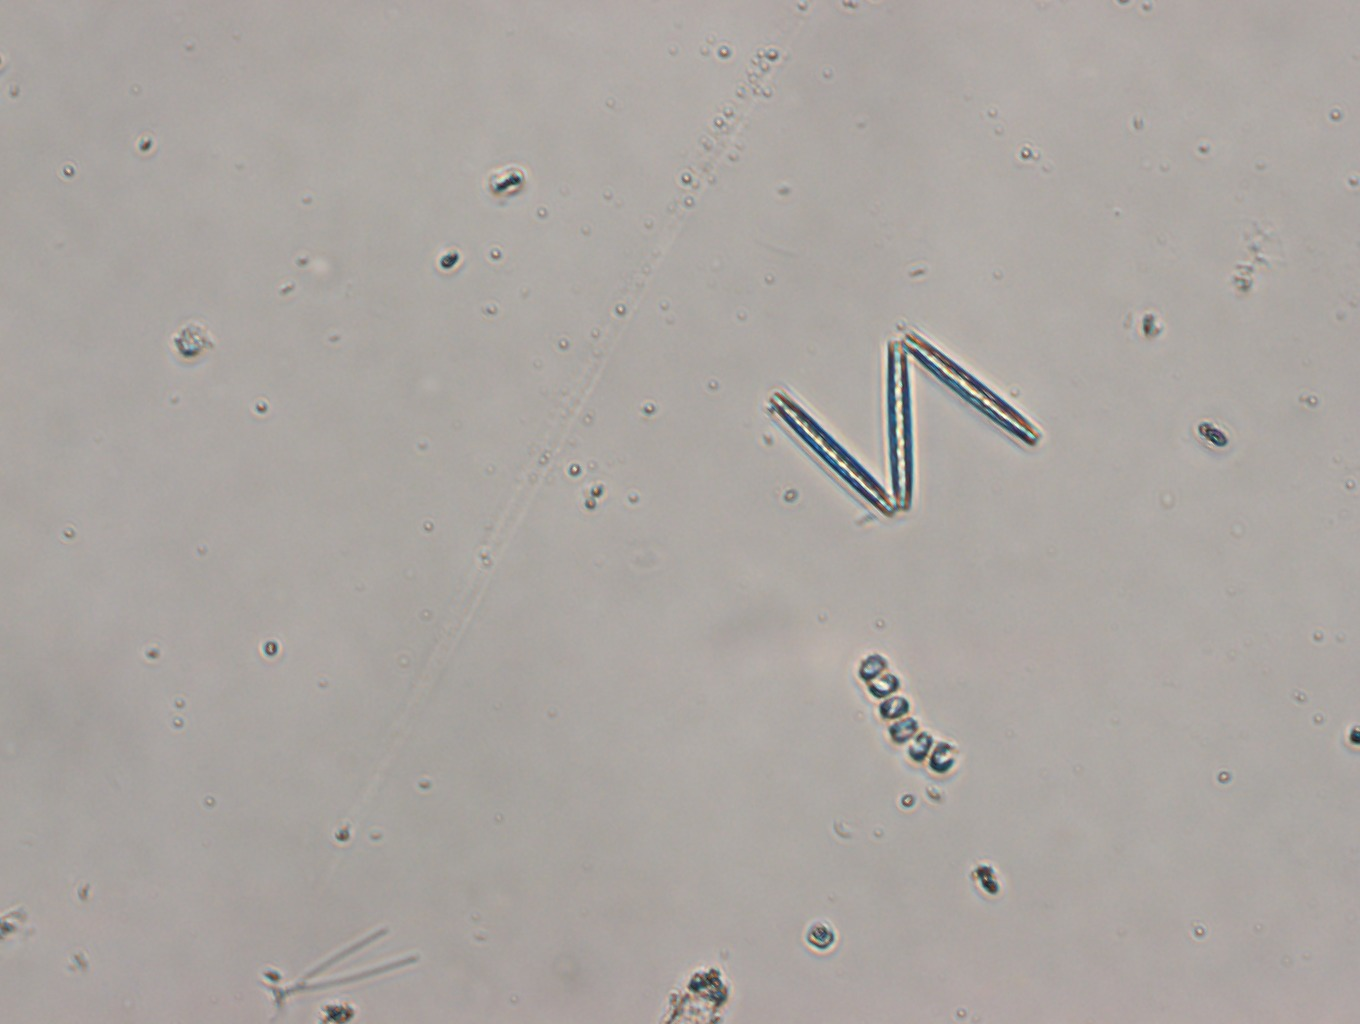skeletonema: (855, 649, 965, 777)
thalassionema nitzschioides: (760, 329, 1043, 520)
